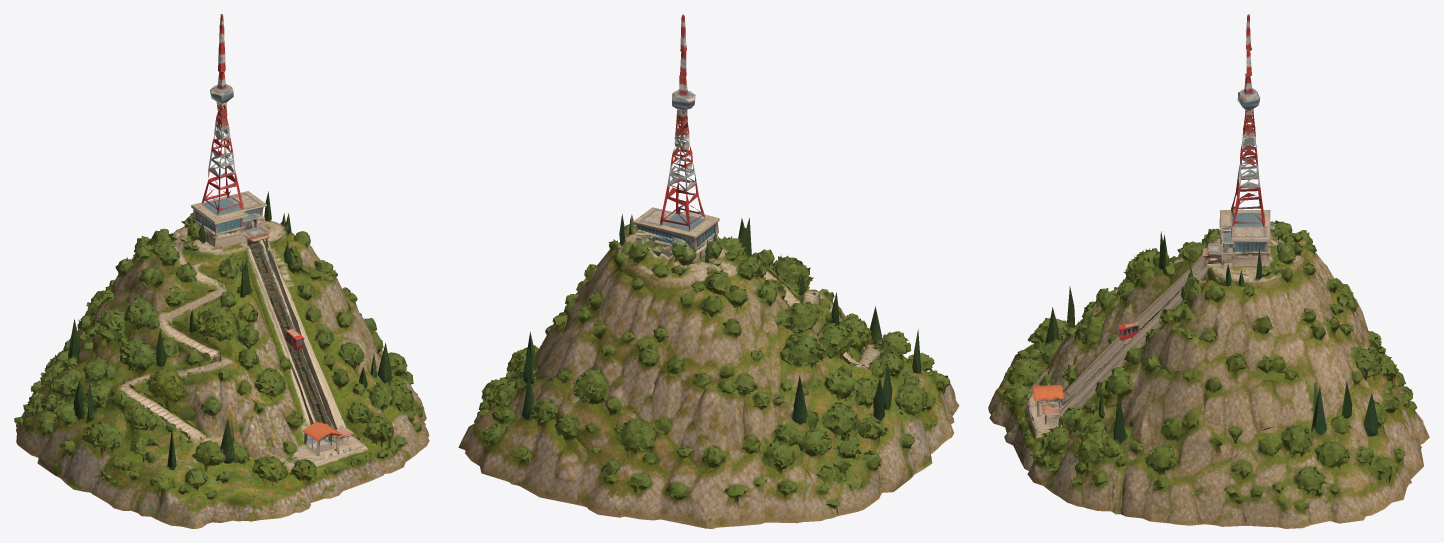
Rendered from m_tb_mtatsminda.glb.
The picture shows the model from 3 angles, left to right: view 1: azimuth 30°, elevation 25°; view 2: azimuth 150°, elevation 25°; view 3: azimuth 270°, elevation 25°; orthographic projection. The views are drawn at different scales.
Bounding box in the file's own units: 0.9925 × 1.05 × 0.985.
Materials: 1 (1 with a texture image).
